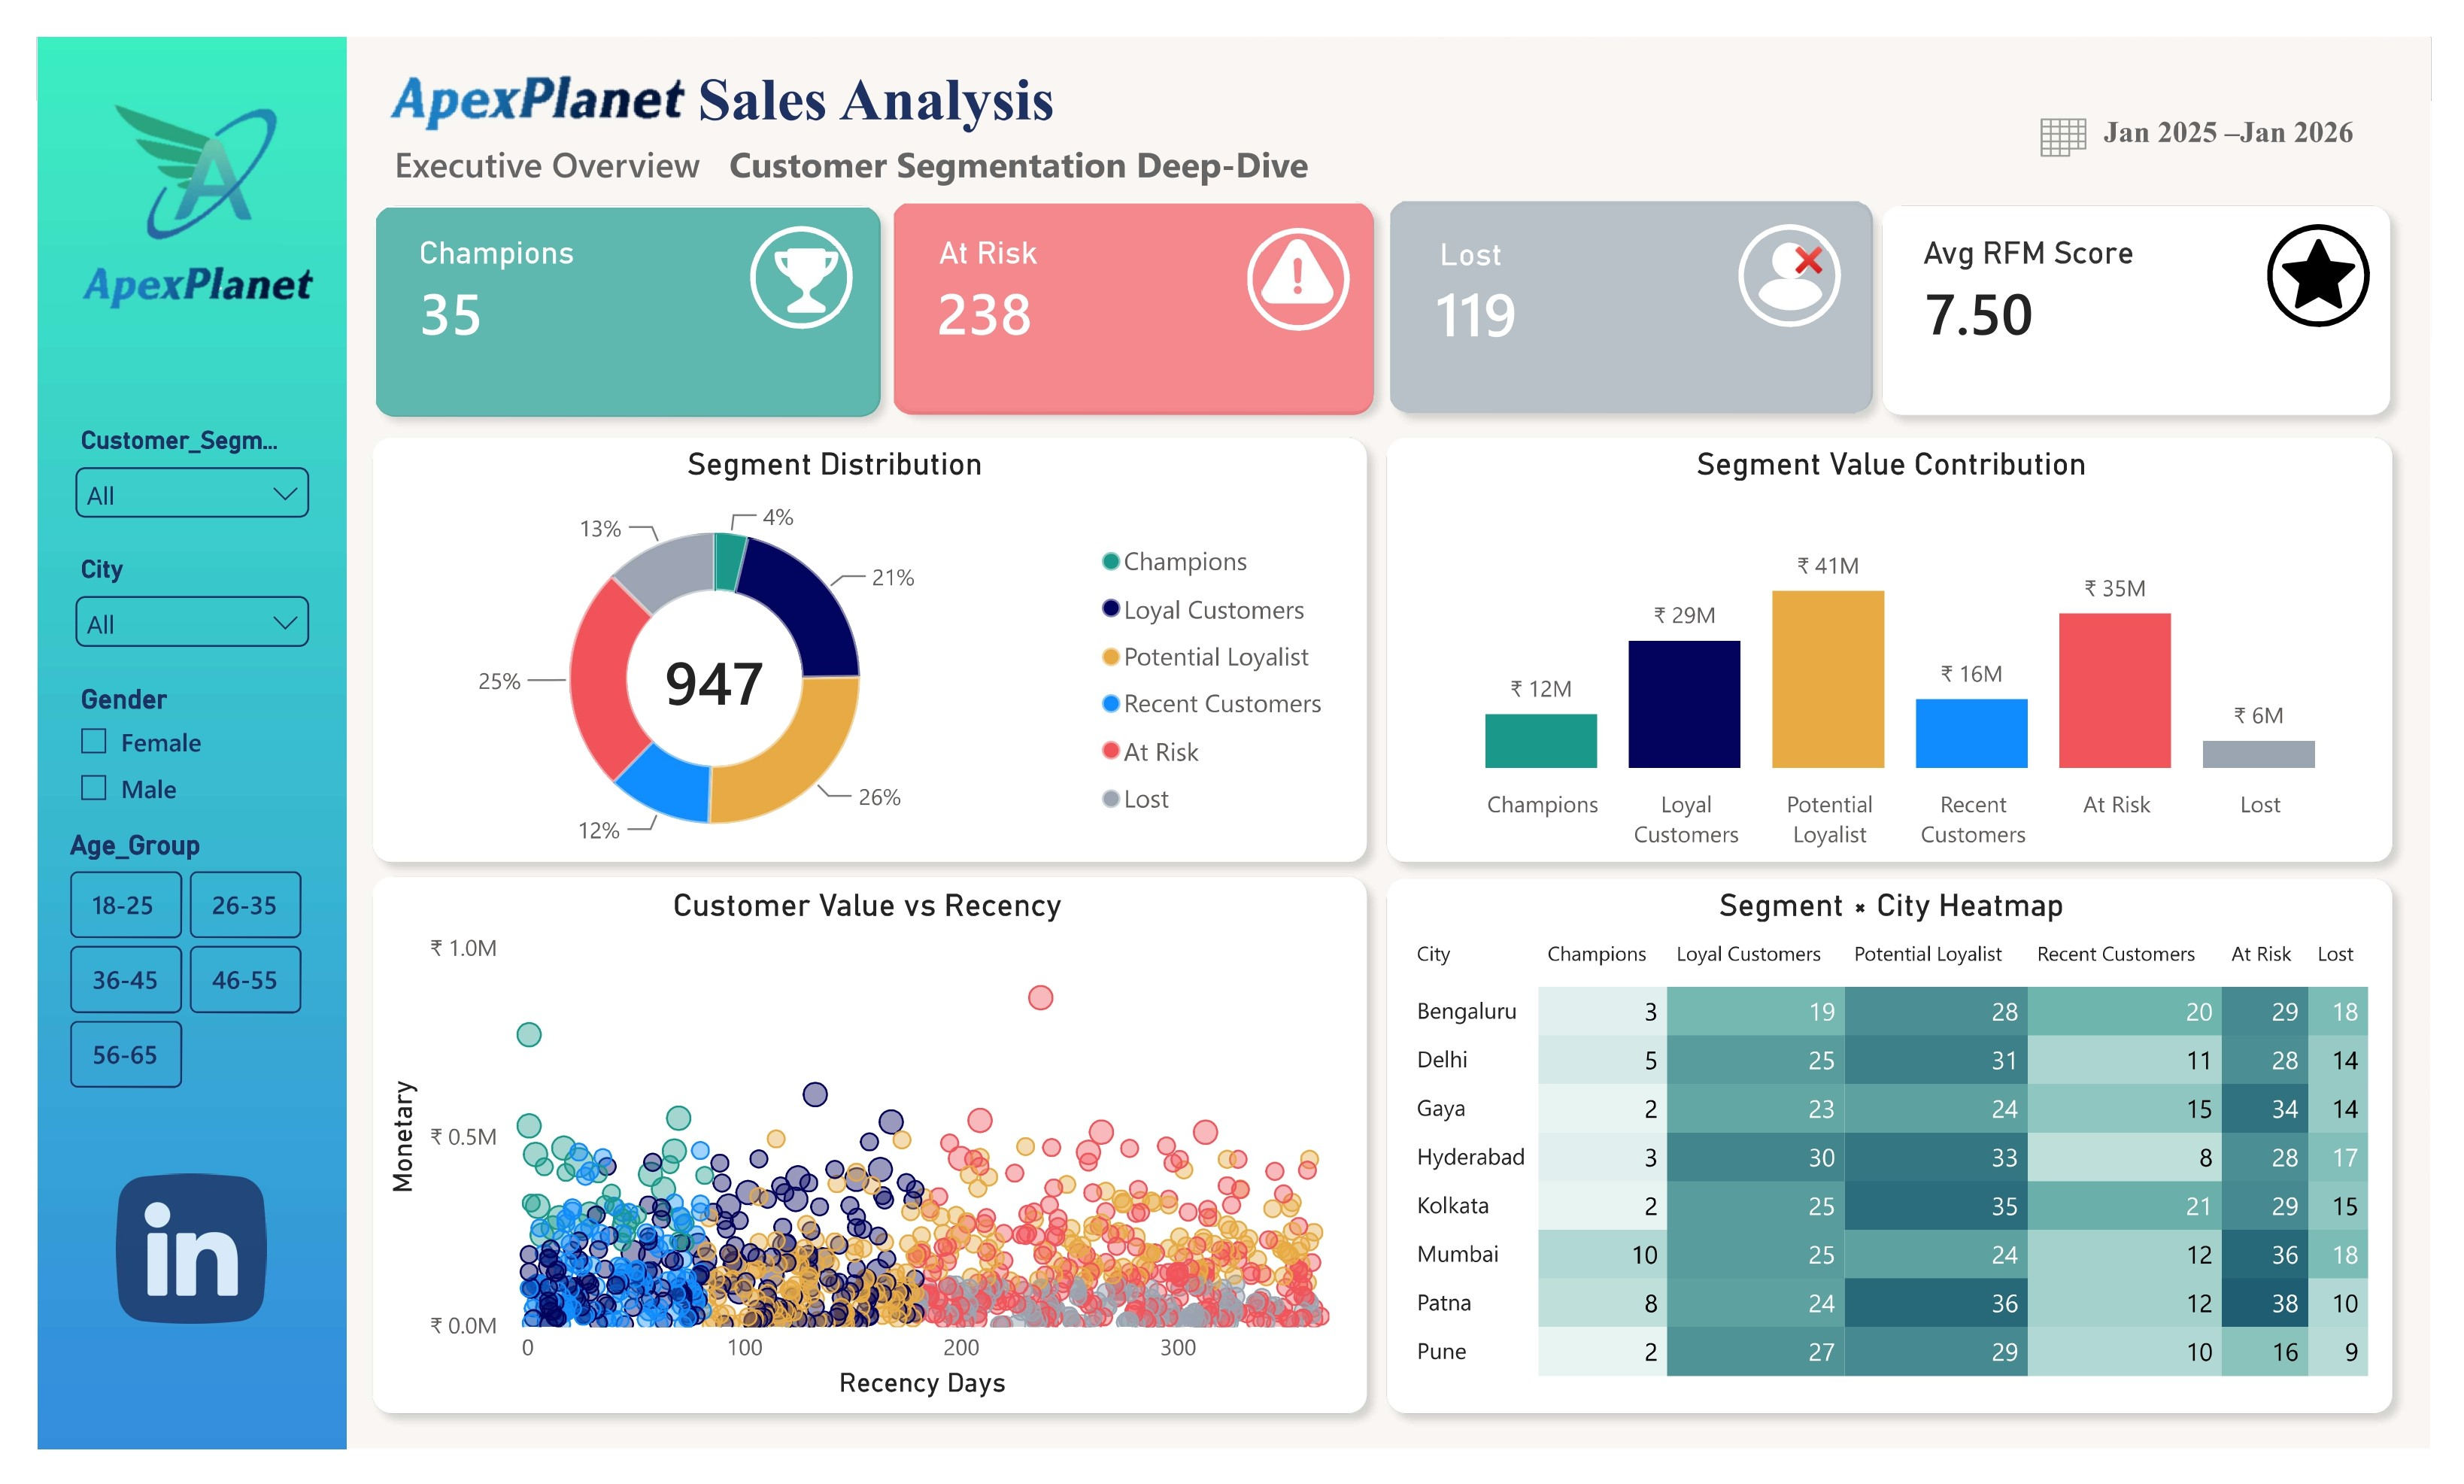

Layout of this report page (visuals, bound fields, positions):
{"tool":"powerbi","page":{"name":"Customer Segmentation","canvas":[1280,755],"ordinal":1},"visuals":[{"type":"image","box":[0,0,165,755],"z":0},{"type":"shape","box":[910,100,54.8,54.8],"z":0,"group":"g5"},{"type":"shape","box":[170.6,80.7,288.4,130],"z":1000},{"type":"image","box":[919,108.7,38,38],"z":1000,"group":"g5"},{"type":"shape","box":[712.5,205,556.2,245],"z":1000,"group":"g3"},{"type":"image","box":[180,90,271,113],"z":2000},{"type":"image","box":[937.9,108.7,20.2,20.2],"z":2000,"group":"g5"},{"type":"shape","box":[449.7,79.4,273.8,130],"z":3000},{"type":"image","box":[457,88,258,114],"z":4000},{"type":"shape","box":[715,80,275.1,130],"z":5000},{"type":"shape","box":[1193,100,54.8,54.8],"z":5500,"group":"g2"},{"type":"image","box":[723,87.4,259,114],"z":6000},{"type":"shape","box":[170,205,550,245],"z":6000,"group":"g3"},{"type":"shape","box":[978,81.1,290,130],"z":7000},{"type":"shape","box":[170,440,550,305],"z":7000,"group":"g3"},{"type":"textbox","box":[340,10,220.2,53.6],"z":8000},{"type":"shape","box":[712.5,441.2,556.2,303.8],"z":8000,"group":"g3"},{"type":"cardVisual","fields":{"Data":["customer_rfm_segments.Champions Count"]},"box":[175,110,198.8,70.2],"z":9000},{"type":"cardVisual","fields":{"Data":["customer_rfm_segments.Avg RFM Score"]},"box":[981,110,210,70.2],"z":10000},{"type":"cardVisual","fields":{"Data":["customer_rfm_segments.At Risk Count"]},"box":[452,110,135.7,70.2],"z":11000},{"type":"cardVisual","fields":{"Data":["customer_rfm_segments.Lost Count"]},"box":[719,110,159.5,70.2],"z":12000},{"type":"image","box":[37,25.1,95.2,90.5],"z":13000},{"type":"textbox","box":[183,100,125,33.3],"z":14000},{"type":"textbox","box":[451,100,115,33],"z":15000},{"type":"textbox","box":[1003,99.9,124.8,33.7],"z":16000},{"type":"image","box":[1199,106,42,41],"z":16000,"group":"g2"},{"type":"textbox","box":[697,100.5,140,33],"z":17000},{"type":"image","box":[1069.8,41.2,27,24],"z":18000},{"type":"textbox","box":[365,50,329,35],"z":19000},{"type":"actionButton","box":[180,50.3,185,35],"z":20000},{"type":"textbox","box":[1088.6,37,163.4,32.9],"z":21000},{"type":"image","box":[19.8,112.4,131,45],"z":22000},{"type":"image","box":[180,17,175,38.1],"z":23000},{"type":"group","id":"g1","title":"Group 1","box":[646.8,101.9,54.8,54.8],"z":24000},{"type":"group","id":"g2","title":"Group 3","box":[1193,100,54.8,54.8],"z":25000},{"type":"group","id":"g3","title":"Group 4","box":[170,205,1098.8,540],"z":26000},{"type":"donutChart","title":"Segment Distribution","fields":{"Category":["customer_rfm_segments.Customer_Segment"],"Y":["customer_rfm_segments.Total Customers"]},"box":[151.1,218.5,550.5,230.9],"z":27000},{"type":"clusteredColumnChart","title":"Segment Value Contribution","fields":{"Category":["customer_rfm_segments.Customer_Segment"],"Y":["customer_rfm_segments.Total Customer Value"]},"box":[727.8,218.5,528.6,223.8],"z":28000},{"type":"pivotTable","title":"Segment × City Heatmap","fields":{"Columns":["customer_rfm_segments.Customer_Segment"],"Rows":["customer_rfm_segments.City"],"Values":["customer_rfm_segments.Total Customers"]},"box":[727.8,454.4,528.6,278.6],"z":29000},{"type":"scatterChart","title":"Customer Value vs Recency","fields":{"Series":["customer_rfm_segments.Customer_Segment"],"Size":["Avg(customer_rfm_segments.Frequency)"],"X":["customer_rfm_segments.Recency_Days"],"Y":["customer_rfm_segments.Monetary"]},"box":[182.3,454.4,523.8,278.6],"z":30000},{"type":"group","id":"g4","title":"Group 5","box":[381,101,54.8,54.8],"z":31000},{"type":"group","id":"g5","title":"Group 2","box":[910,100,54.8,54.8],"z":32000},{"type":"slicer","fields":{"Values":["customer_rfm_segments.City"]},"box":[10,272.1,145,68.8],"z":33000},{"type":"shape","box":[381,101,54.8,54.8],"z":33500,"group":"g4"},{"type":"shape","box":[646.8,101.9,54.8,54.8],"z":33500,"group":"g1"},{"type":"slicer","fields":{"Values":["customer_rfm_segments.Gender"]},"box":[10,340.8,144.8,83.6],"z":34000},{"type":"advancedSlicerVisual","fields":{"Values":["customer_rfm_segments.Age_Group"]},"box":[12.5,424.4,140,146.2],"z":35000},{"type":"slicer","fields":{"Values":["customer_rfm_segments.Customer_Segment"]},"box":[10,203.5,145,68.8],"z":36000},{"type":"image","box":[655,106,38,38],"z":37000,"group":"g1"},{"type":"image","box":[389,111.8,43,36],"z":37000,"group":"g4"},{"type":"image","box":[42.4,607.9,79.8,79.8],"z":37000}]}

Visuals, with their boxes in screenshot pixels (x1, y1, x2, y2), scaled from the page's 1280x755 canvas onto the 2464x1484 screenshot:
image: [x1=0, y1=0, x2=317, y2=1483]
shape: [x1=1752, y1=196, x2=1857, y2=305]
shape: [x1=329, y1=159, x2=884, y2=414]
image: [x1=1769, y1=214, x2=1842, y2=288]
shape: [x1=1372, y1=403, x2=2442, y2=885]
image: [x1=347, y1=177, x2=868, y2=399]
image: [x1=1805, y1=214, x2=1844, y2=253]
shape: [x1=866, y1=156, x2=1393, y2=411]
image: [x1=880, y1=173, x2=1376, y2=397]
shape: [x1=1376, y1=157, x2=1906, y2=413]
shape: [x1=2296, y1=196, x2=2402, y2=305]
image: [x1=1391, y1=171, x2=1890, y2=396]
shape: [x1=327, y1=403, x2=1386, y2=885]
shape: [x1=1883, y1=159, x2=2441, y2=415]
shape: [x1=327, y1=865, x2=1386, y2=1464]
textbox: [x1=654, y1=20, x2=1079, y2=125]
shape: [x1=1372, y1=867, x2=2442, y2=1464]
cardVisual - customer_rfm_segments.Champions Count: [x1=337, y1=216, x2=720, y2=354]
cardVisual - customer_rfm_segments.Avg RFM Score: [x1=1889, y1=216, x2=2293, y2=354]
cardVisual - customer_rfm_segments.At Risk Count: [x1=870, y1=216, x2=1131, y2=354]
cardVisual - customer_rfm_segments.Lost Count: [x1=1384, y1=216, x2=1691, y2=354]
image: [x1=71, y1=50, x2=254, y2=227]
textbox: [x1=352, y1=196, x2=593, y2=262]
textbox: [x1=868, y1=196, x2=1090, y2=262]
textbox: [x1=1931, y1=196, x2=2171, y2=263]
image: [x1=2308, y1=208, x2=2389, y2=289]
textbox: [x1=1342, y1=198, x2=1611, y2=263]
image: [x1=2059, y1=81, x2=2111, y2=128]
textbox: [x1=702, y1=99, x2=1336, y2=167]
actionButton: [x1=347, y1=99, x2=702, y2=168]
textbox: [x1=2095, y1=73, x2=2410, y2=138]
image: [x1=38, y1=221, x2=290, y2=309]
image: [x1=347, y1=33, x2=684, y2=108]
"Group 1" group: [x1=1245, y1=200, x2=1351, y2=308]
"Group 3" group: [x1=2296, y1=196, x2=2402, y2=305]
"Group 4" group: [x1=327, y1=403, x2=2442, y2=1464]
"Segment Distribution" donutChart: [x1=291, y1=429, x2=1351, y2=883]
"Segment Value Contribution" clusteredColumnChart: [x1=1401, y1=429, x2=2419, y2=869]
"Segment × City Heatmap" pivotTable: [x1=1401, y1=893, x2=2419, y2=1441]
"Customer Value vs Recency" scatterChart: [x1=351, y1=893, x2=1359, y2=1441]
"Group 5" group: [x1=733, y1=199, x2=839, y2=306]
"Group 2" group: [x1=1752, y1=196, x2=1857, y2=305]
slicer - customer_rfm_segments.City: [x1=20, y1=535, x2=299, y2=670]
shape: [x1=733, y1=199, x2=839, y2=306]
shape: [x1=1245, y1=200, x2=1351, y2=308]
slicer - customer_rfm_segments.Gender: [x1=20, y1=670, x2=298, y2=834]
advancedSlicerVisual - customer_rfm_segments.Age_Group: [x1=24, y1=834, x2=293, y2=1121]
slicer - customer_rfm_segments.Customer_Segment: [x1=20, y1=400, x2=299, y2=536]
image: [x1=1261, y1=208, x2=1334, y2=283]
image: [x1=749, y1=220, x2=832, y2=290]
image: [x1=82, y1=1195, x2=235, y2=1352]
